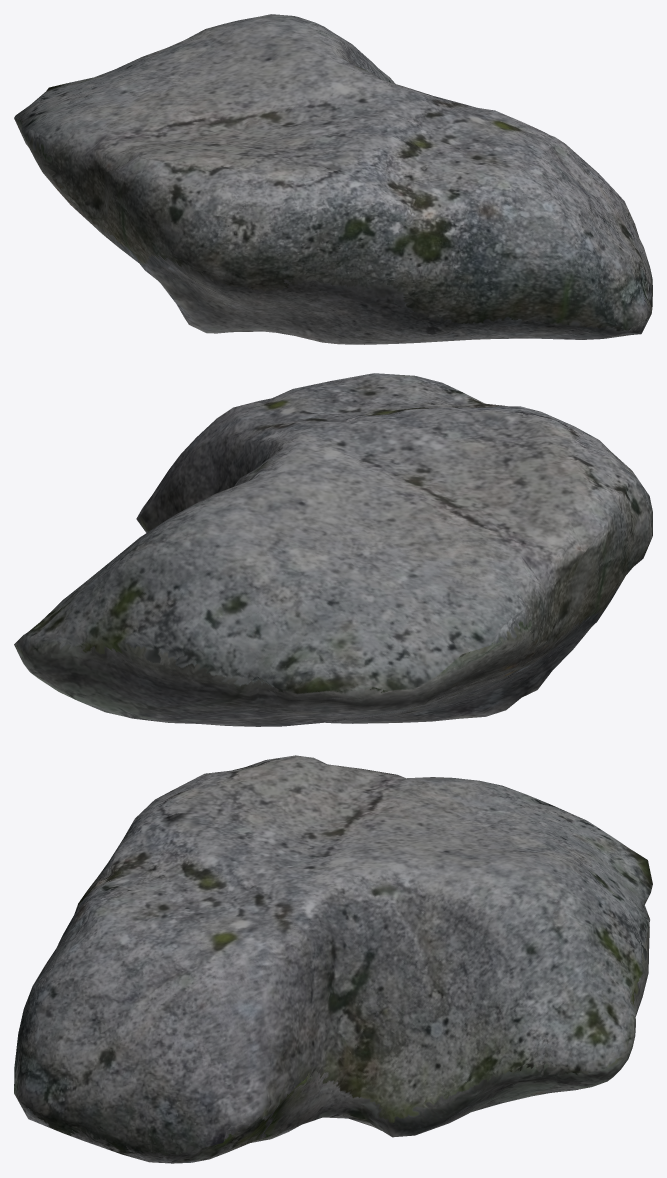
The model's file is [uhq] rock4.fbx.
3 views of the same model, one above another, from view 1: azimuth 30°, elevation 25°; view 2: azimuth 150°, elevation 25°; view 3: azimuth 270°, elevation 25° (orthographic). The views are drawn at different scales.
Parts seen in each view (by area): view 1: rock 3_LOD0; view 2: rock 3_LOD0; view 3: rock 3_LOD0.
Part boxes in pixels (x1,y1,x2,y2): rock 3_LOD0: (14,14,652,344); rock 3_LOD0: (14,373,652,726); rock 3_LOD0: (14,755,652,1163).
Size of what is drawn, in the model's own units: 1.3 by 0.5649 by 1.49.
